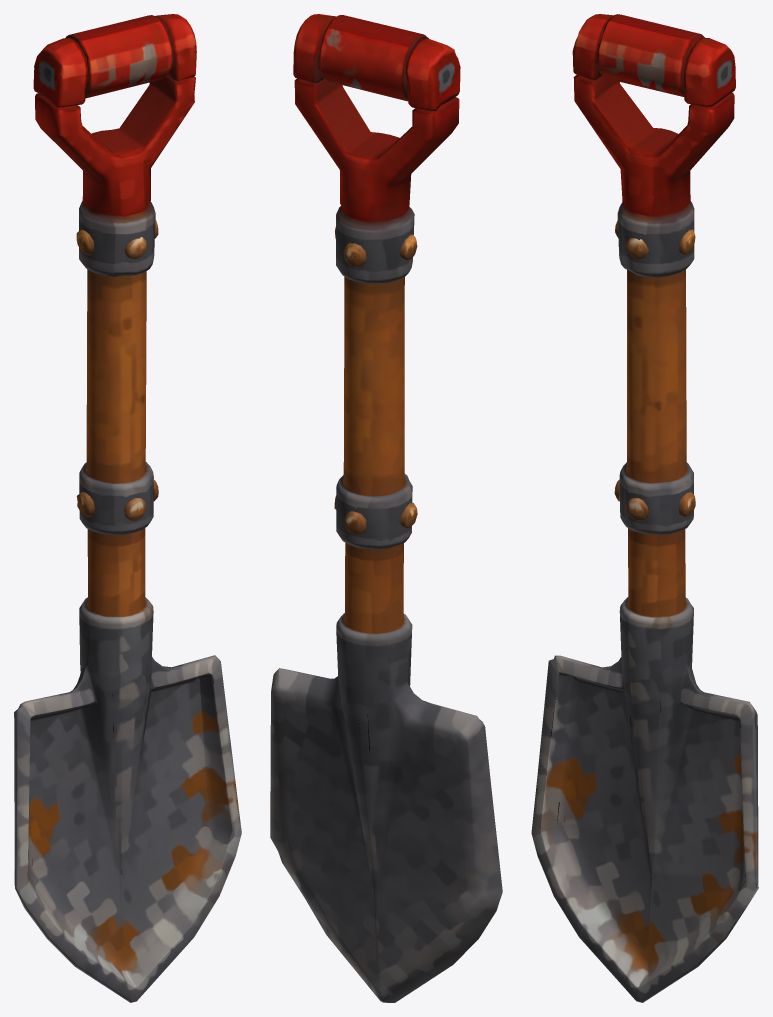
The model's file is shovel.glb.
The picture shows the model from 3 angles, left to right: view 1: azimuth 30°, elevation 25°; view 2: azimuth 150°, elevation 25°; view 3: azimuth 330°, elevation 25°; orthographic projection. The views are drawn at different scales.
Parts seen in each view (by area): view 1: geometry_0; view 2: geometry_0; view 3: geometry_0.
Boxes of the visible parts, left/top/right/bottom form: geometry_0: left=14, top=14, right=241, bottom=1002; geometry_0: left=270, top=14, right=502, bottom=1002; geometry_0: left=531, top=14, right=758, bottom=1002.
Size of the model in its own units: 0.2339 by 0.9512 by 0.0771.
1 material, 1 textured.
